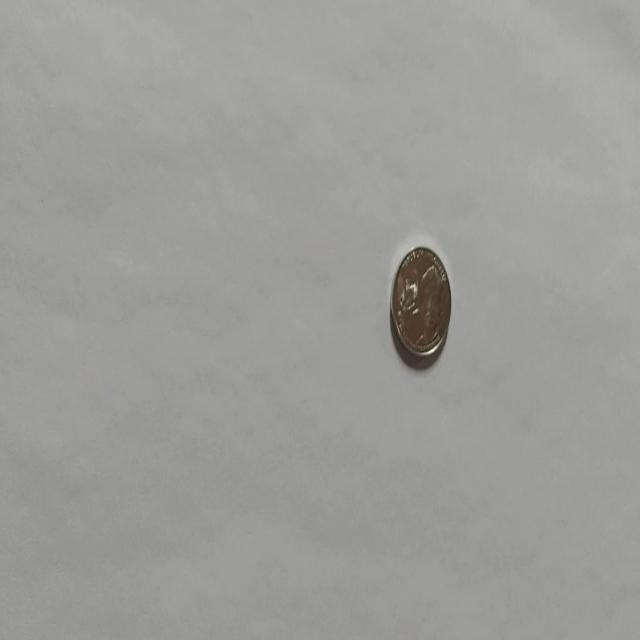dua ratus rupiah: (388, 244, 452, 360)
